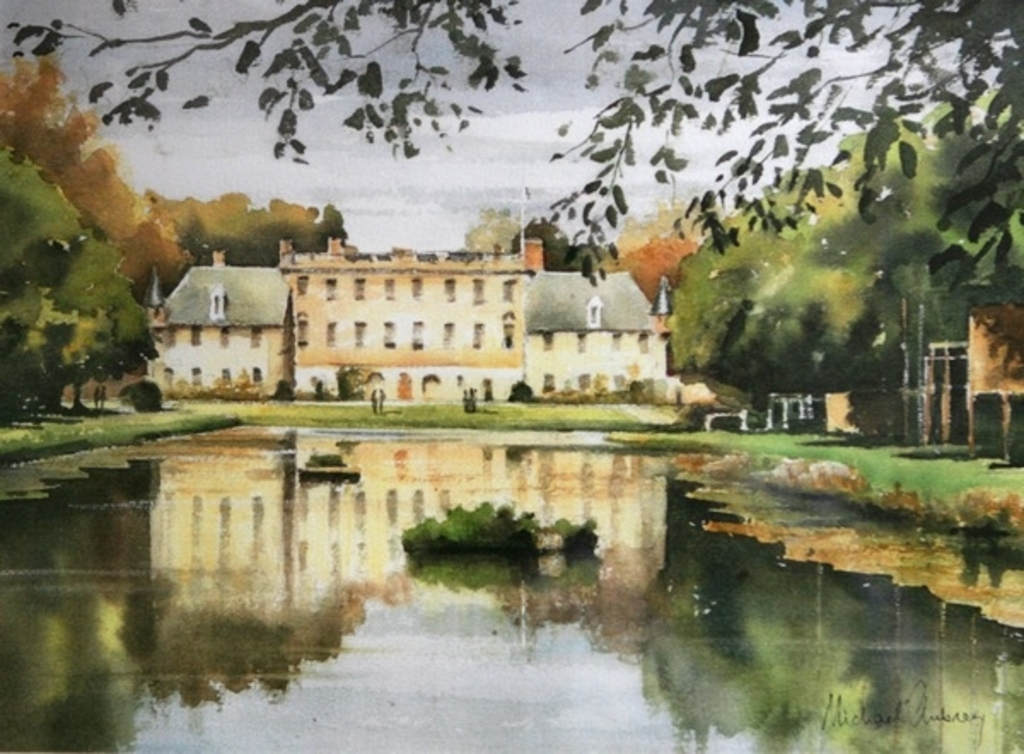Tree: (0, 0, 1024, 431)
